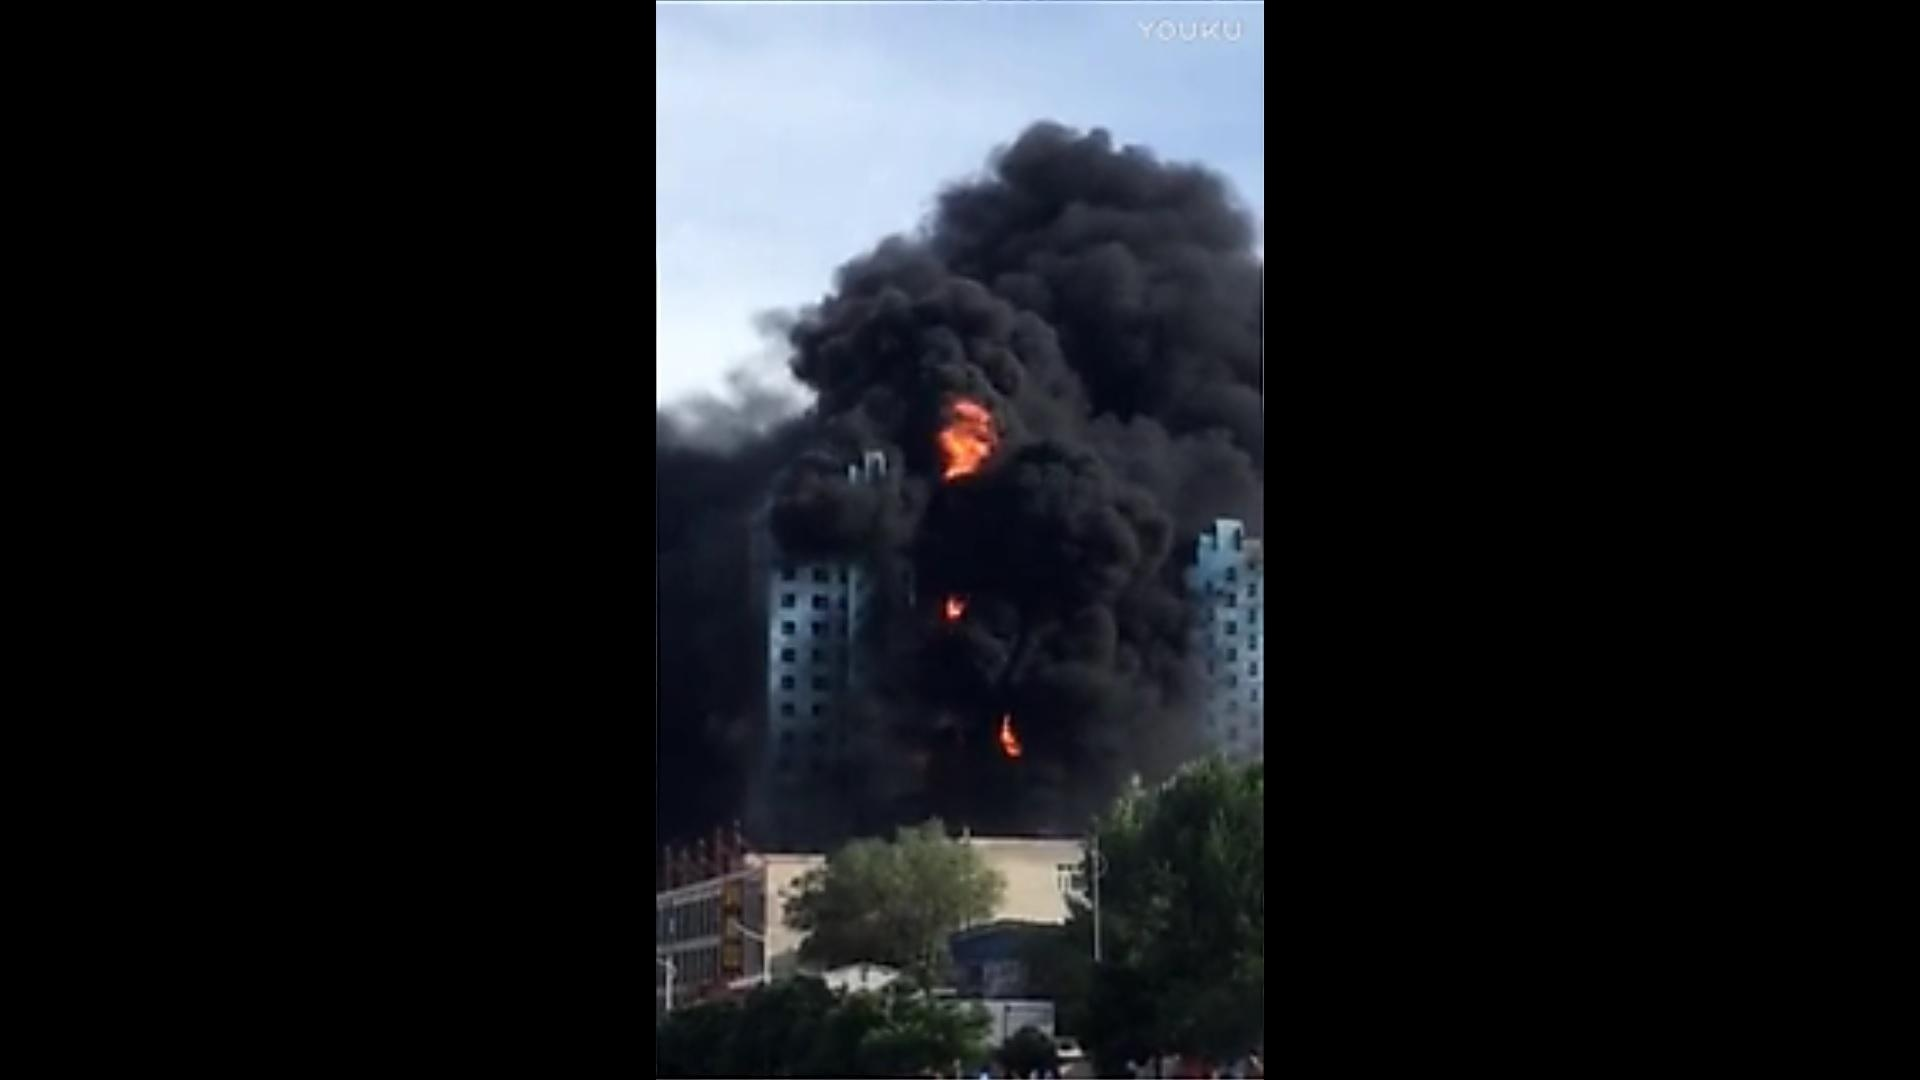fire: (938, 397, 994, 480), (992, 715, 1023, 756)
